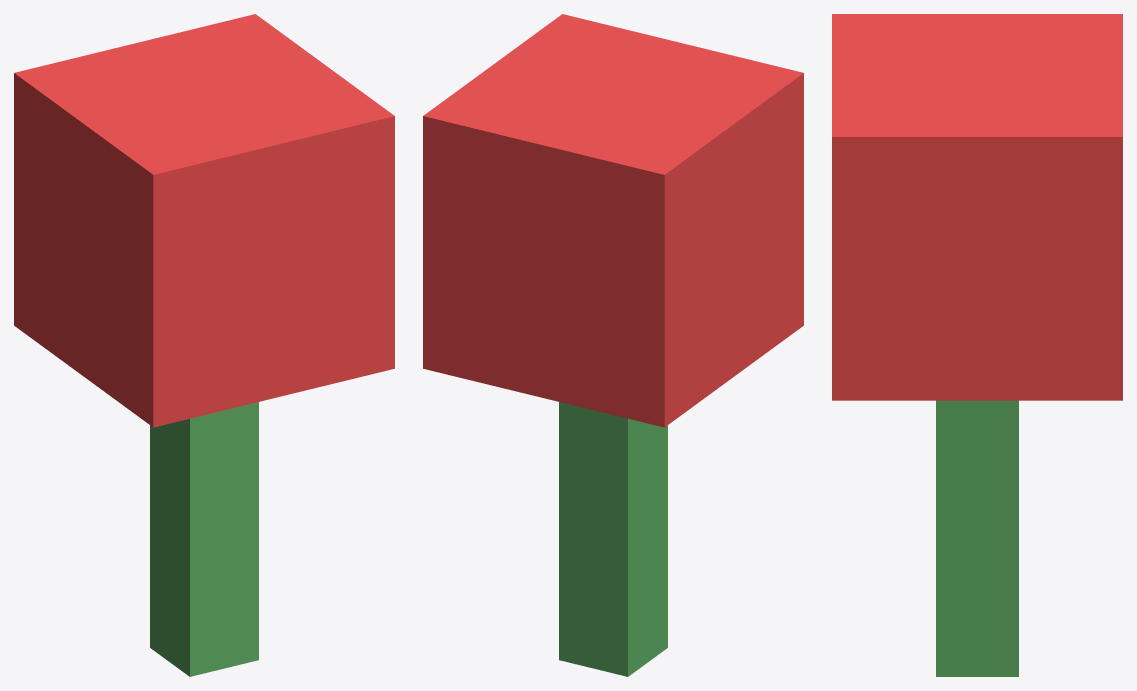
File: flower.obj
3 views of the same model, side by side, from view 1: azimuth 30°, elevation 25°; view 2: azimuth 150°, elevation 25°; view 3: azimuth 270°, elevation 25° (orthographic). The views are drawn at different scales.
Size of the model in its own units: 0.35 by 0.775 by 0.35.
